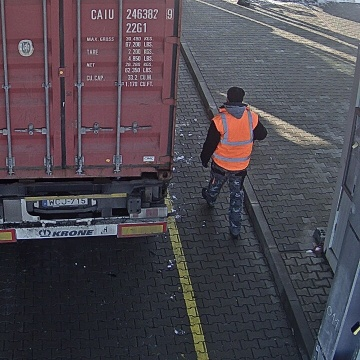serial_id: (91, 9, 172, 19)
